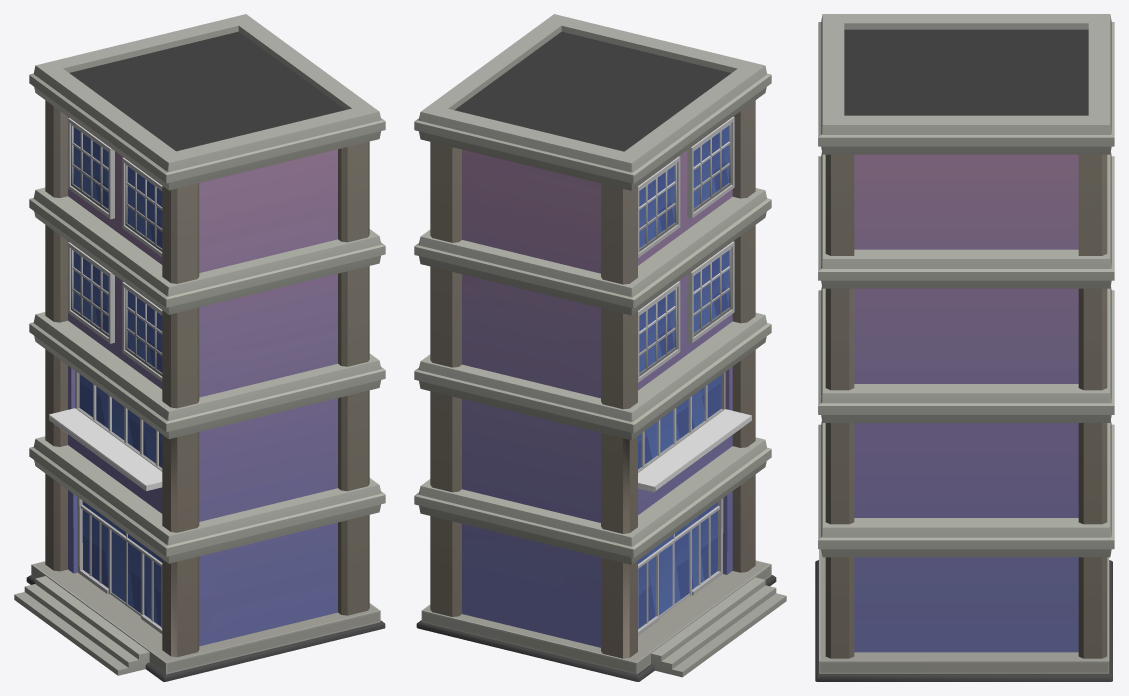
Rendered from Building_9_1_NN.fbx.
The picture shows the model from 3 angles, left to right: view 1: azimuth 30°, elevation 25°; view 2: azimuth 150°, elevation 25°; view 3: azimuth 270°, elevation 25°; orthographic projection. The views are drawn at different scales.
Parts seen in each view (by area): view 1: Building_9_1_NN; view 2: Building_9_1_NN; view 3: Building_9_1_NN.
Boxes of the visible parts, left/top/right/bottom form: Building_9_1_NN: left=14, top=14, right=385, bottom=681; Building_9_1_NN: left=414, top=14, right=786, bottom=681; Building_9_1_NN: left=815, top=14, right=1114, bottom=681.
Bounding box in the file's own units: 947 × 1855 × 906.
